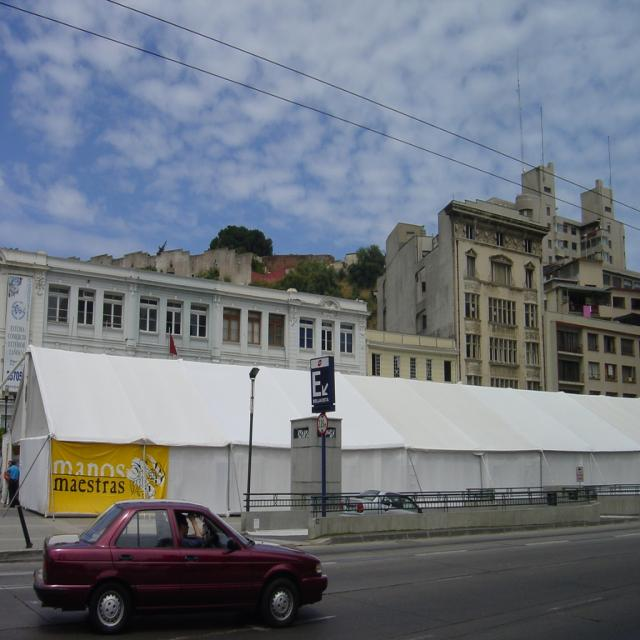car: (28, 503, 329, 633)
